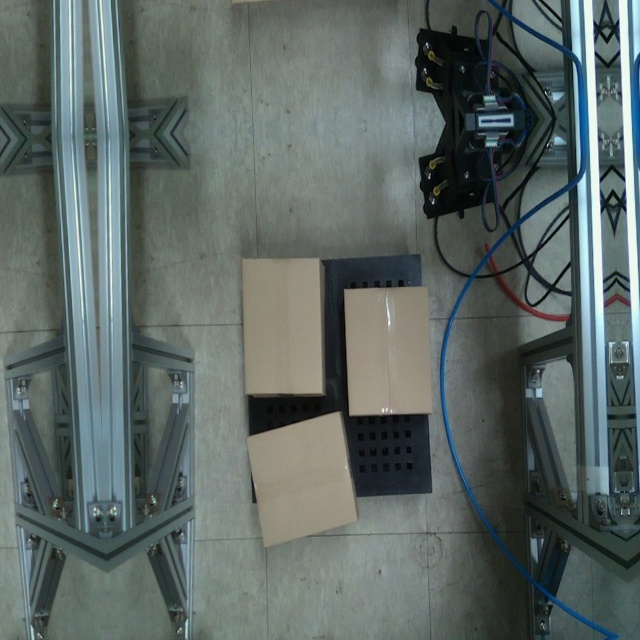box: (244, 411, 360, 550), (240, 255, 325, 397), (343, 285, 434, 417)
